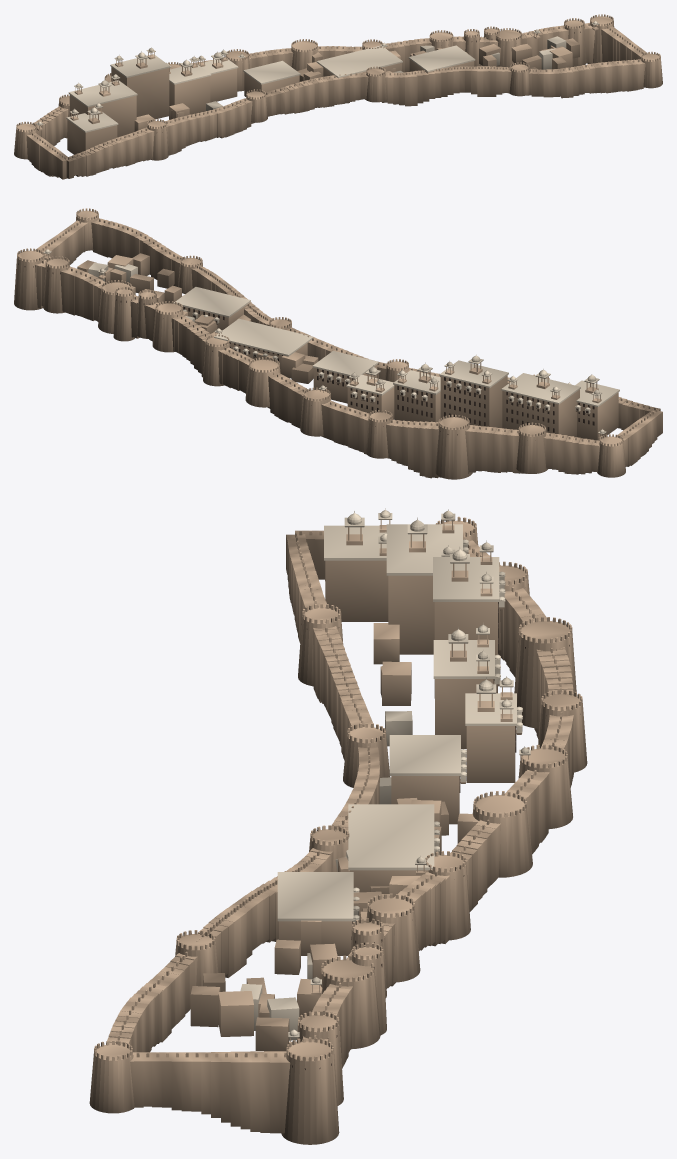
The model's file is fort.glb.
3 renders of one model, top to bottom at view 1: azimuth 30°, elevation 25°; view 2: azimuth 150°, elevation 25°; view 3: azimuth 270°, elevation 25°, orthographic. The views are drawn at different scales.
Parts seen in each view (by area): view 1: Fort; view 2: Fort; view 3: Fort.
Part boxes in pixels (x1,y1,x2,y2): Fort: (14,14,662,179); Fort: (14,208,662,479); Fort: (89,508,587,1144).
Size of the model in its own units: 532 by 82.13 by 204.
